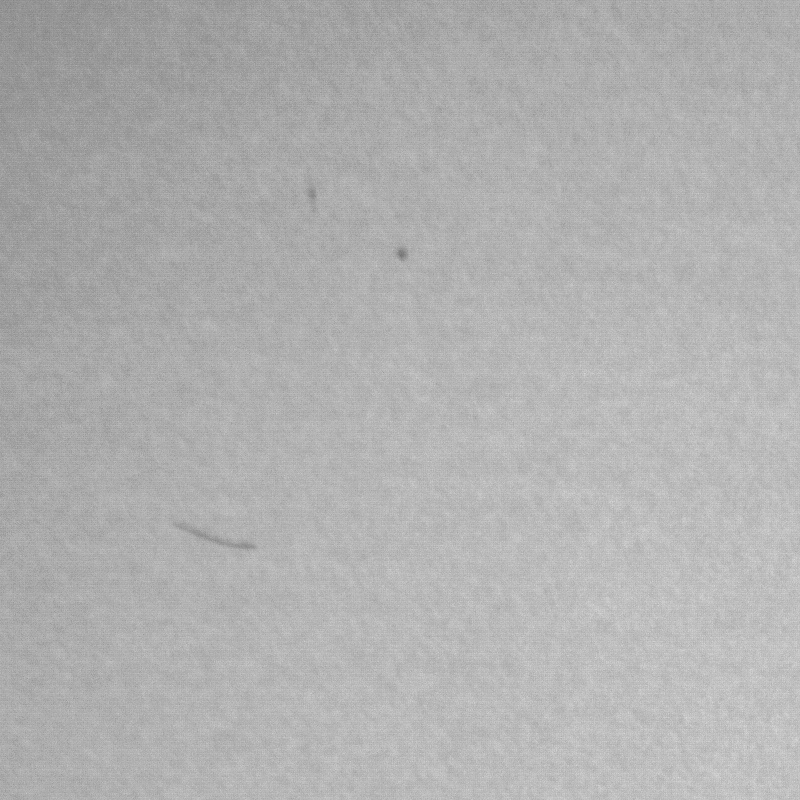defect: (176, 524, 259, 552), (299, 171, 326, 210), (397, 243, 413, 265)
